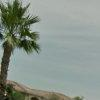Palm tree: (2, 1, 38, 96)
